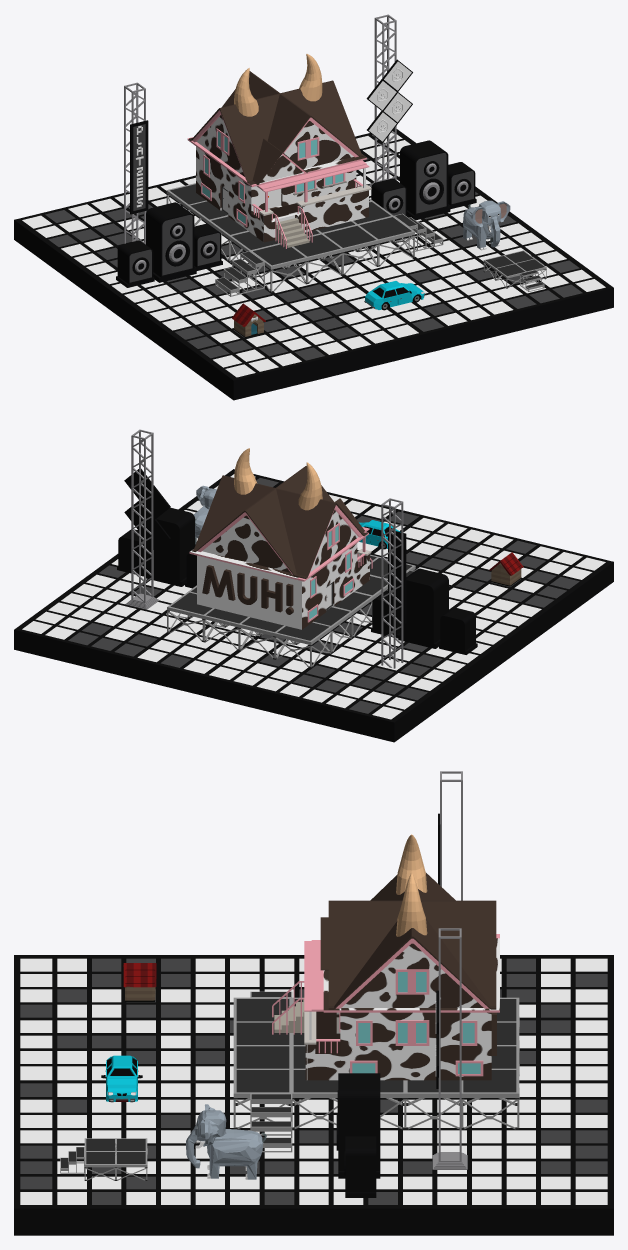
3 views of the same model, one above another, from view 1: azimuth 30°, elevation 25°; view 2: azimuth 150°, elevation 25°; view 3: azimuth 270°, elevation 25° (orthographic). The views are drawn at different scales.
Visible parts, largest first — view 1: Cube.008, Cube.1242, ANIMAL_ELEFANTE, VEHICLES_CAR, OBJRANDOM_DOGHOUSE; view 2: Cube.008, Cube.1242, OBJRANDOM_DOGHOUSE, ANIMAL_ELEFANTE, VEHICLES_CAR; view 3: Cube.008, Cube.1242, ANIMAL_ELEFANTE, VEHICLES_CAR, OBJRANDOM_DOGHOUSE.
Part boxes in pixels (x1=…): Cube.008: x1=14, y1=14, x2=613, y2=400; Cube.1242: x1=187, y1=54, x2=371, y2=248; ANIMAL_ELEFANTE: x1=463, y1=200, x2=510, y2=250; VEHICLES_CAR: x1=364, y1=281, x2=424, y2=310; OBJRANDOM_DOGHOUSE: x1=232, y1=303, x2=265, y2=337; Cube.008: x1=14, y1=429, x2=613, y2=742; Cube.1242: x1=189, y1=448, x2=372, y2=629; OBJRANDOM_DOGHOUSE: x1=489, y1=552, x2=523, y2=586; ANIMAL_ELEFANTE: x1=193, y1=485, x2=216, y2=544; VEHICLES_CAR: x1=359, y1=520, x2=400, y2=549; Cube.008: x1=14, y1=771, x2=613, y2=1235; Cube.1242: x1=272, y1=834, x2=499, y2=1080; ANIMAL_ELEFANTE: x1=186, y1=1104, x2=266, y2=1179; VEHICLES_CAR: x1=101, y1=1055, x2=142, y2=1102; OBJRANDOM_DOGHOUSE: x1=123, y1=963, x2=156, y2=1001.
Bounding box in the file's own units: 4000 × 1972 × 4000.
51 materials, 1 textured.
